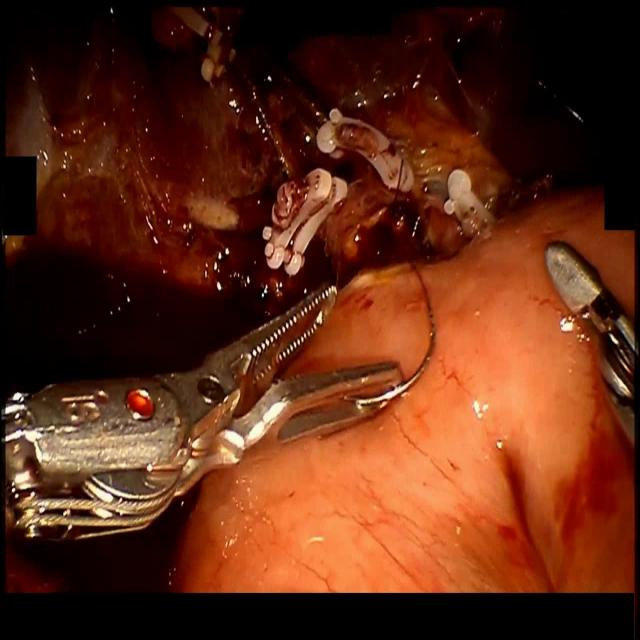surgical-area: (0, 0, 636, 592)
surgical-tool: (0, 276, 402, 537), (544, 237, 634, 445)
